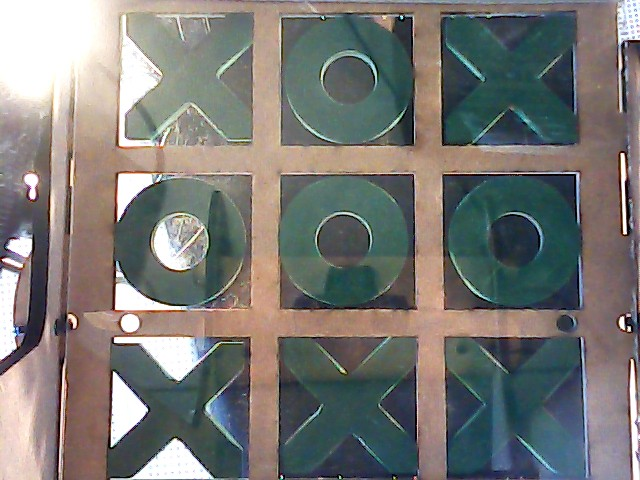O: (444, 176, 581, 306), (120, 172, 248, 305), (285, 16, 414, 143), (283, 179, 414, 303)
X: (447, 335, 587, 477), (284, 336, 416, 479), (114, 339, 245, 480), (442, 16, 578, 146), (123, 15, 259, 143)
